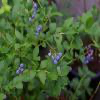Blueberry leaf: (10, 70, 30, 93), (2, 60, 13, 90), (36, 3, 54, 21), (70, 29, 85, 49), (38, 55, 56, 70), (47, 69, 62, 84), (53, 78, 63, 99), (38, 69, 47, 89), (12, 5, 20, 27), (60, 65, 73, 78), (63, 17, 75, 31), (32, 44, 41, 62), (78, 19, 88, 35), (15, 30, 25, 45), (6, 47, 15, 62), (13, 40, 25, 51), (6, 32, 15, 45), (50, 20, 57, 36), (28, 1, 33, 15), (25, 41, 31, 49)
